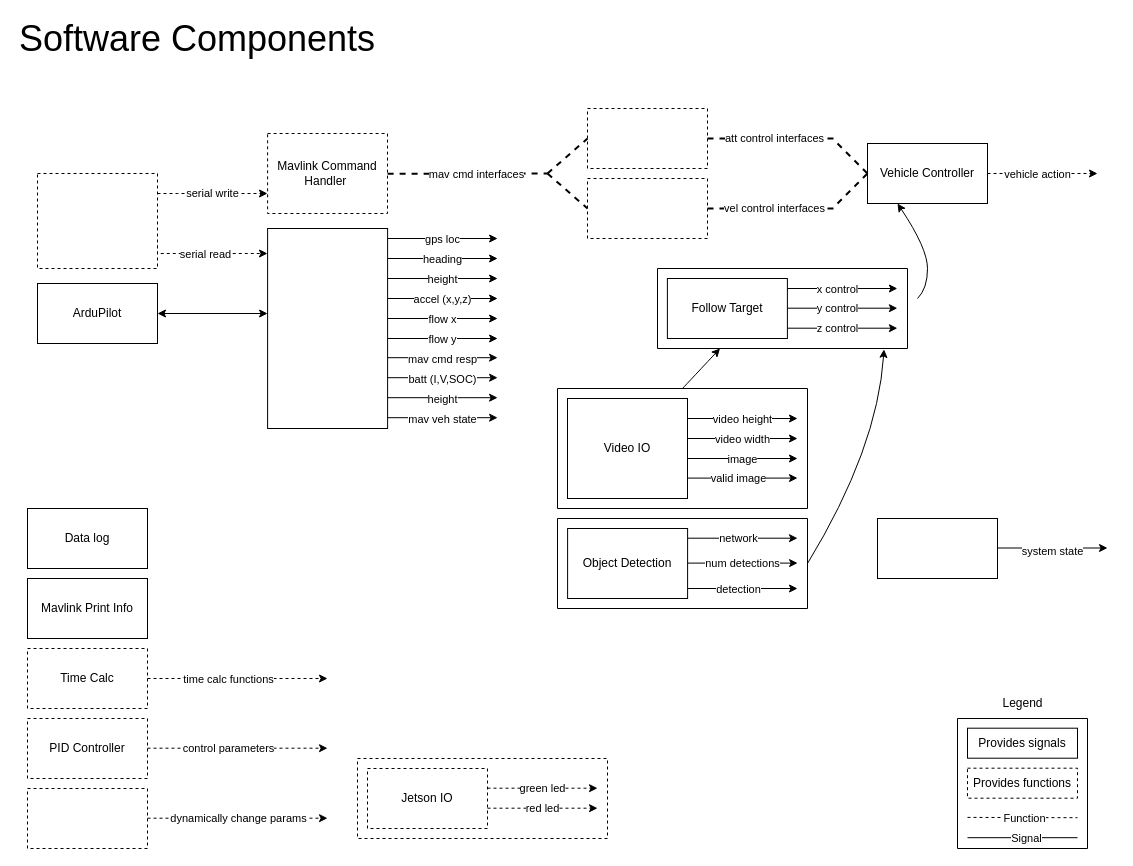
Image size: 1133x866. Some labels were removed from this diagram. The centre of each missing label's shape, as x and y in pixels:
"Attitude Controller" goes at pixel 647 138.
"Mavlink Message Handler" goes at pixel 327 328.
"Parameters" goes at pixel 87 818.
"Serial Comm" goes at pixel 97 220.
"System Controller" goes at pixel 937 548.
"Velocity Controller" goes at pixel 647 208.
